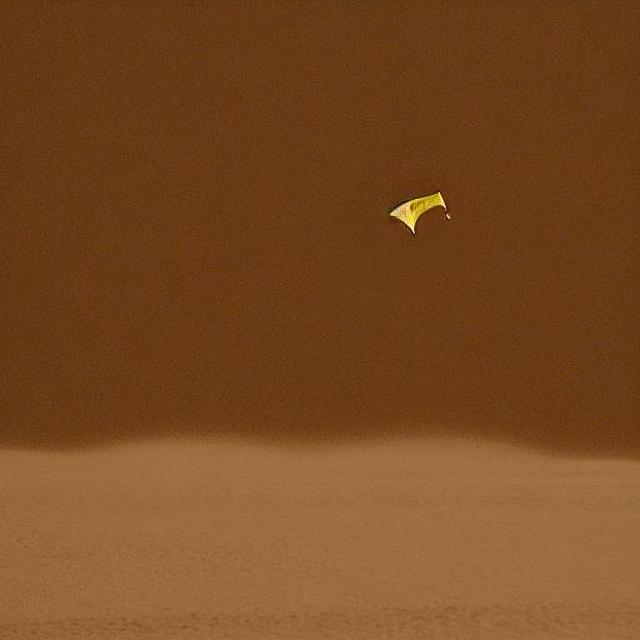floating object: (387, 190, 451, 238)
